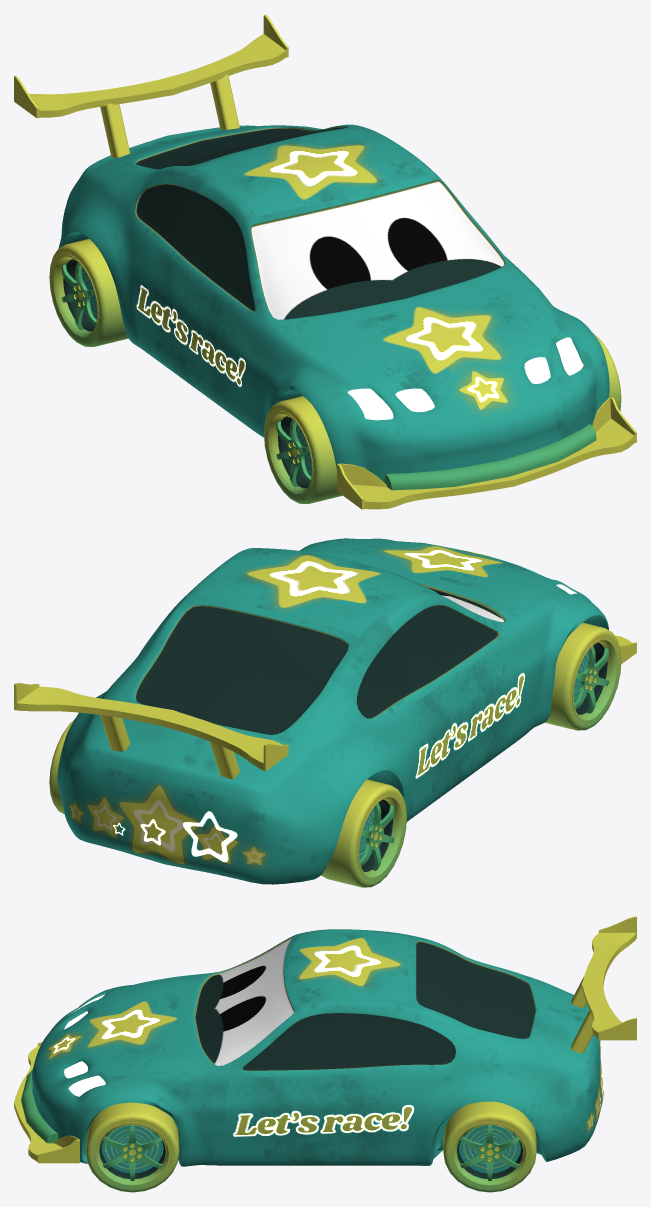
File: Mikey.fbx
The picture shows the model from 3 angles, top to bottom: view 1: azimuth 30°, elevation 25°; view 2: azimuth 150°, elevation 25°; view 3: azimuth 270°, elevation 25°; orthographic projection. The views are drawn at different scales.
Parts seen in each view (by area): view 1: Estructura, Rueda 1.002, Rueda 1.003; view 2: Estructura, Rueda 1.002, Rueda 1.003, Rueda 1.001; view 3: Estructura, Rueda 1.001, Rueda 1.
Boxes of the visible parts, x1=… form: Estructura: x1=14, y1=14, x2=636, y2=509; Rueda 1.002: x1=49, y1=239, x2=128, y2=346; Rueda 1.003: x1=264, y1=396, x2=342, y2=503; Estructura: x1=14, y1=538, x2=636, y2=884; Rueda 1.002: x1=321, y1=779, x2=406, y2=887; Rueda 1.003: x1=545, y1=622, x2=621, y2=730; Rueda 1.001: x1=49, y1=719, x2=74, y2=814; Estructura: x1=14, y1=916, x2=636, y2=1166; Rueda 1.001: x1=443, y1=1101, x2=536, y2=1192; Rueda 1: x1=86, y1=1102, x2=179, y2=1192.
Bounding box in the file's own units: 199 × 128 × 423.
